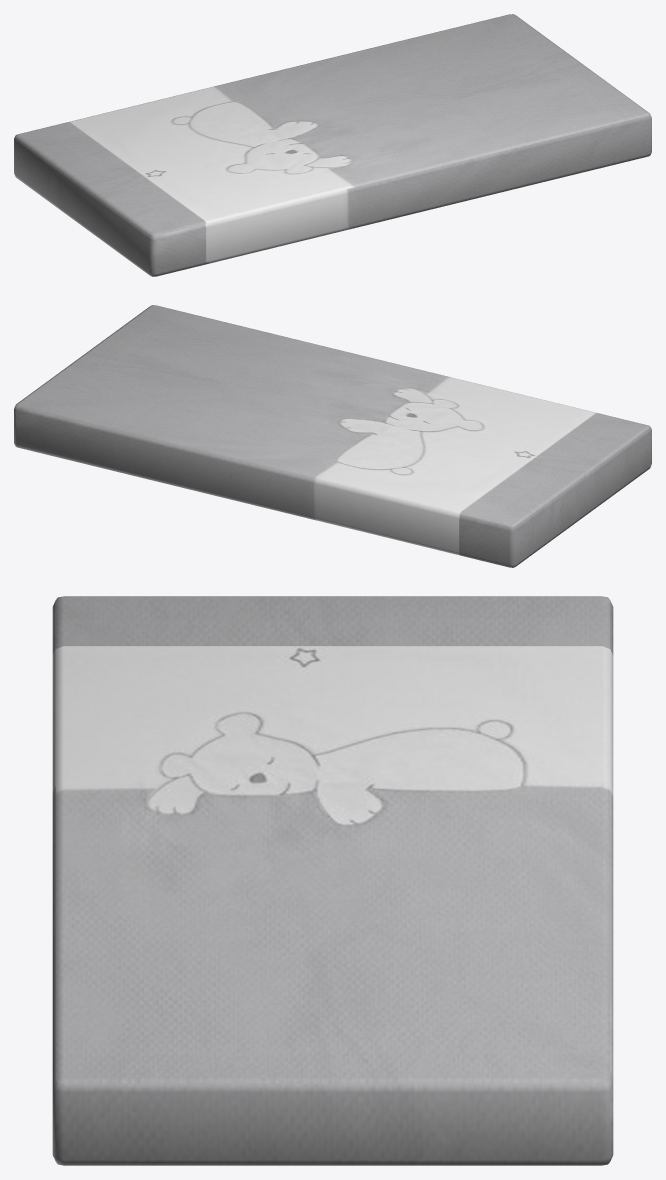
Rendered from Mattress.fbx.
3 renders of one model, top to bottom at view 1: azimuth 30°, elevation 25°; view 2: azimuth 150°, elevation 25°; view 3: azimuth 270°, elevation 25°, orthographic. The views are drawn at different scales.
Parts seen in each view (by area): view 1: Mattress; view 2: Mattress; view 3: Mattress.
Part boxes in pixels (bbox=[...]): Mattress: bbox=[14, 14, 651, 276]; Mattress: bbox=[14, 305, 651, 567]; Mattress: bbox=[52, 596, 613, 1165].
Size of the model in its own units: 120 by 10 by 58.
1 material, 1 textured.
